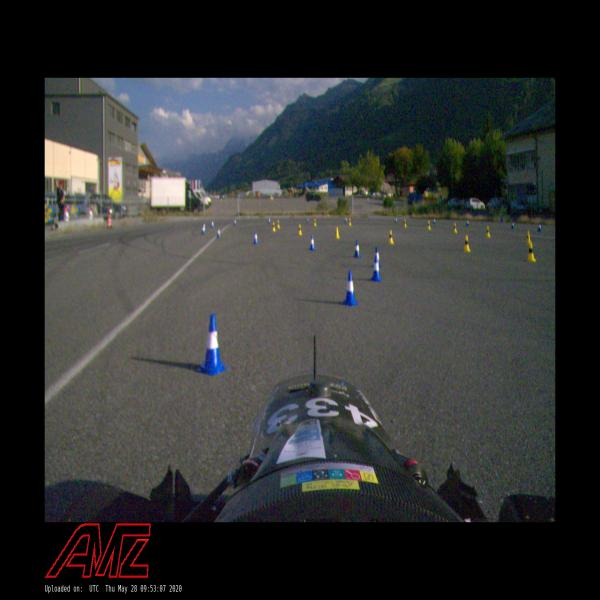blue_cone: (196, 315, 228, 376), (341, 271, 359, 307), (371, 256, 382, 282), (372, 246, 381, 268), (354, 240, 361, 258), (310, 235, 316, 251), (252, 230, 258, 244), (217, 228, 221, 238), (538, 222, 542, 232), (202, 226, 206, 235), (203, 222, 206, 231), (511, 220, 514, 229), (466, 219, 469, 227), (268, 217, 271, 224), (212, 220, 214, 228), (234, 218, 236, 226), (346, 216, 348, 223), (306, 217, 308, 223), (395, 217, 397, 223), (434, 218, 436, 224)
yellow_cone: (526, 242, 536, 262), (463, 236, 471, 252), (388, 230, 394, 244), (485, 225, 491, 238), (526, 230, 531, 244), (335, 227, 340, 239), (298, 224, 302, 235), (272, 222, 276, 232), (453, 224, 457, 234), (428, 220, 432, 230), (276, 220, 280, 228), (403, 220, 407, 228), (349, 218, 352, 226), (314, 219, 316, 227)
